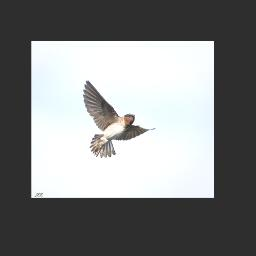Swallow: (82, 79, 156, 160)
